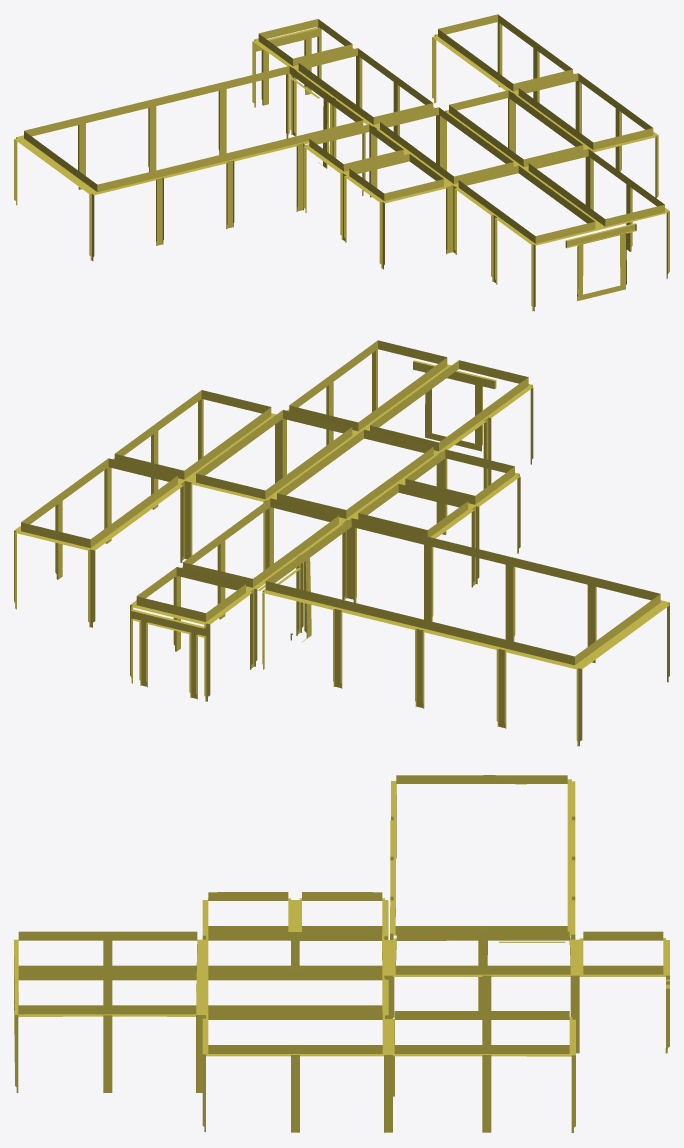
The model's file is CABIN_Beams.fbx.
The picture shows the model from 3 angles, top to bottom: view 1: azimuth 30°, elevation 25°; view 2: azimuth 150°, elevation 25°; view 3: azimuth 270°, elevation 25°; orthographic projection. The views are drawn at different scales.
Visible parts, largest first — view 1: Cabin Retopo.001; view 2: Cabin Retopo.001; view 3: Cabin Retopo.001.
Part boxes in pixels (x1,y1,x2,y2): Cabin Retopo.001: [14, 14, 669, 311]; Cabin Retopo.001: [14, 340, 669, 746]; Cabin Retopo.001: [14, 775, 669, 1132].
Size of the model in its own units: 3333 by 486 by 3332.
